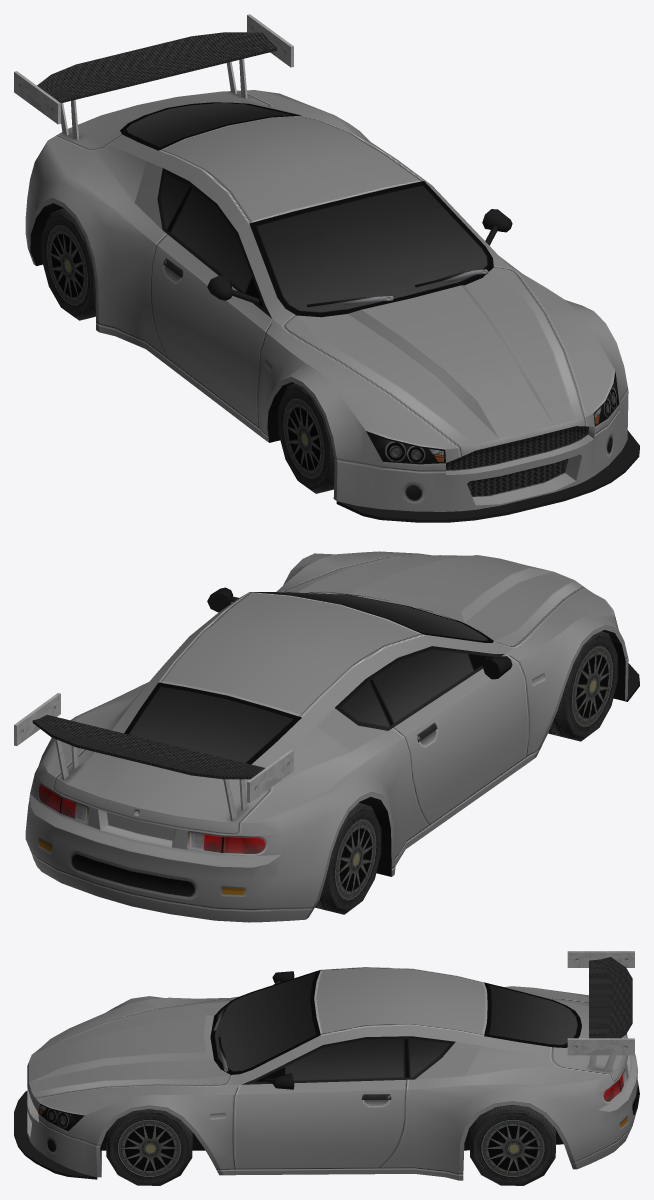
The model's file is Modern_HighPowered_Car.fbx.
3 renders of one model, top to bottom at view 1: azimuth 30°, elevation 25°; view 2: azimuth 150°, elevation 25°; view 3: azimuth 270°, elevation 25°, orthographic. The views are drawn at different scales.
Visible parts, largest first — view 1: Chassis, RF_Wheel, RR_Wheel; view 2: Chassis, RF_Wheel, RR_Wheel; view 3: Chassis, LR_Wheel, LF_Wheel.
Part boxes in pixels (left/top/right/bottom): Chassis: left=14, top=14, right=639, bottom=522; RF_Wheel: left=278, top=383, right=334, bottom=493; RR_Wheel: left=41, top=208, right=95, bottom=320; Chassis: left=14, top=551, right=639, bottom=922; RF_Wheel: left=548, top=631, right=617, bottom=741; RR_Wheel: left=315, top=803, right=381, bottom=914; Chassis: left=14, top=951, right=639, bottom=1180; LR_Wheel: left=470, top=1104, right=555, bottom=1185; LF_Wheel: left=106, top=1109, right=192, bottom=1185.
Bounding box in the file's own units: 2.39 × 1.43 × 5.7.
Materials: 2 (2 with a texture image).
